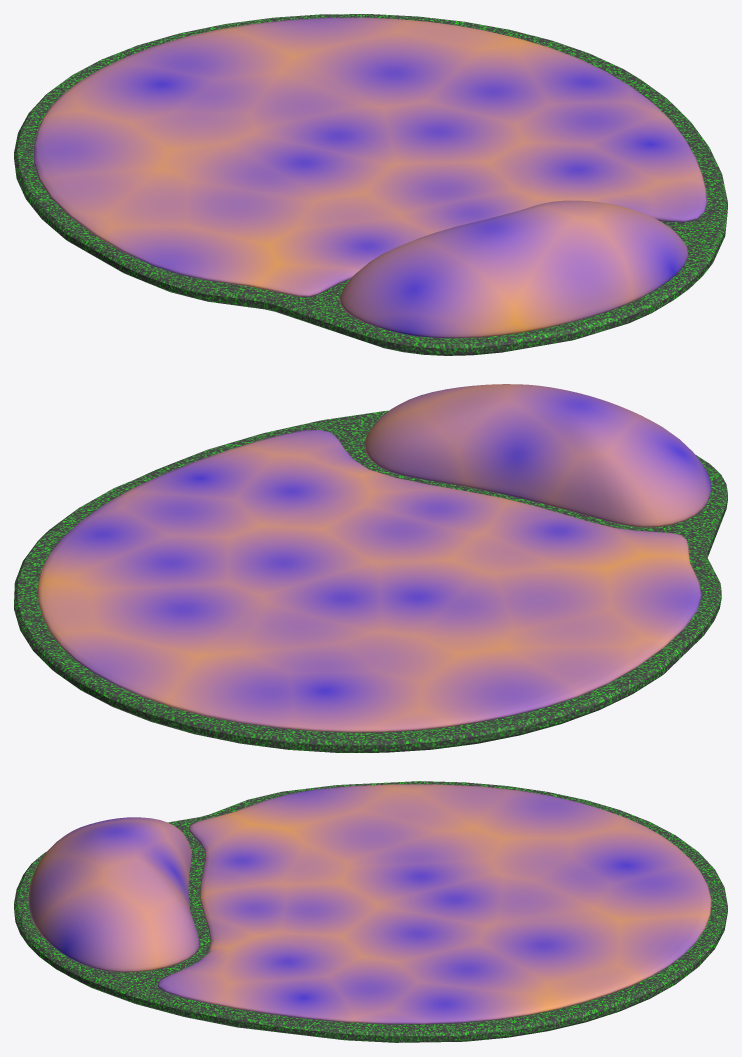
File: device.fbx
3 views of the same model, one above another, from view 1: azimuth 30°, elevation 25°; view 2: azimuth 150°, elevation 25°; view 3: azimuth 270°, elevation 25° (orthographic). The views are drawn at different scales.
Parts seen in each view (by area): view 1: 2, 1; view 2: 2, 1; view 3: 2, 1.
Boxes of the visible parts, <box> form: 2: <box>33,17,706,338</box>; 1: <box>14,14,727,355</box>; 2: <box>37,384,711,732</box>; 1: <box>14,410,727,752</box>; 2: <box>28,784,711,1024</box>; 1: <box>14,781,727,1042</box>.
Size of the model in its own units: 21.54 by 2.73 by 25.58.
2 materials, 2 textured.
